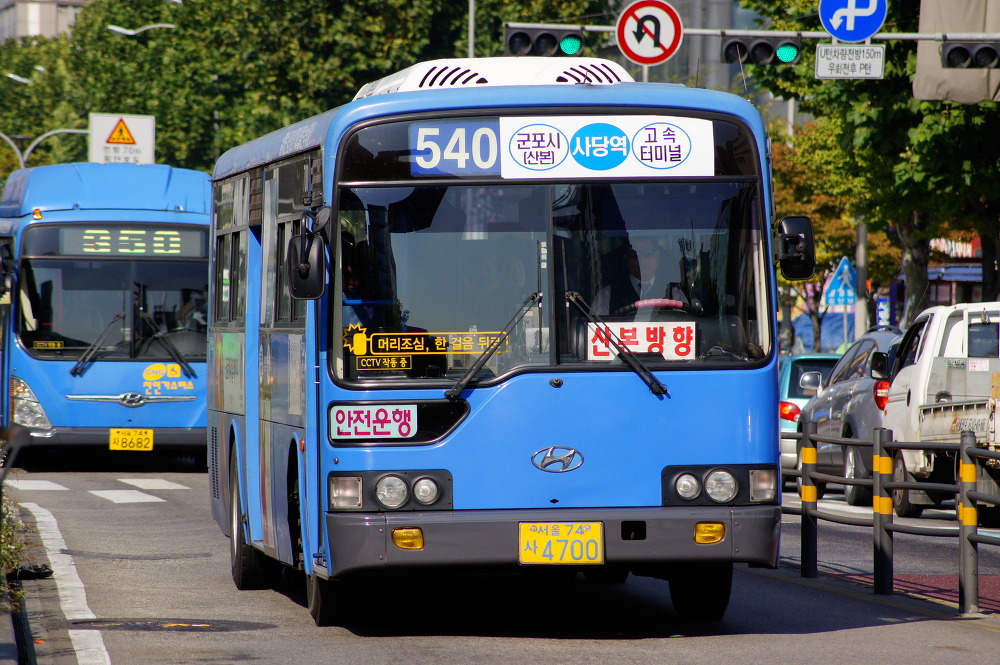bnum: (407, 119, 501, 175)
